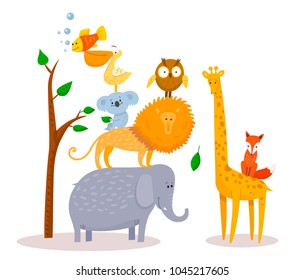animal: (196, 62, 277, 246), (84, 94, 193, 168), (238, 131, 281, 176), (95, 87, 138, 131)
bird: (82, 47, 137, 90), (150, 52, 190, 93)
elephant: (67, 164, 187, 243)
fish: (70, 24, 106, 52)
tree: (37, 52, 71, 239)
